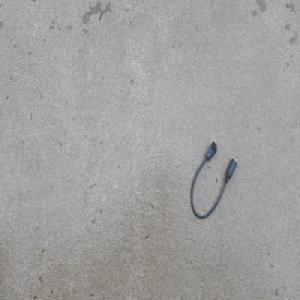Wire: (188, 140, 237, 221)
